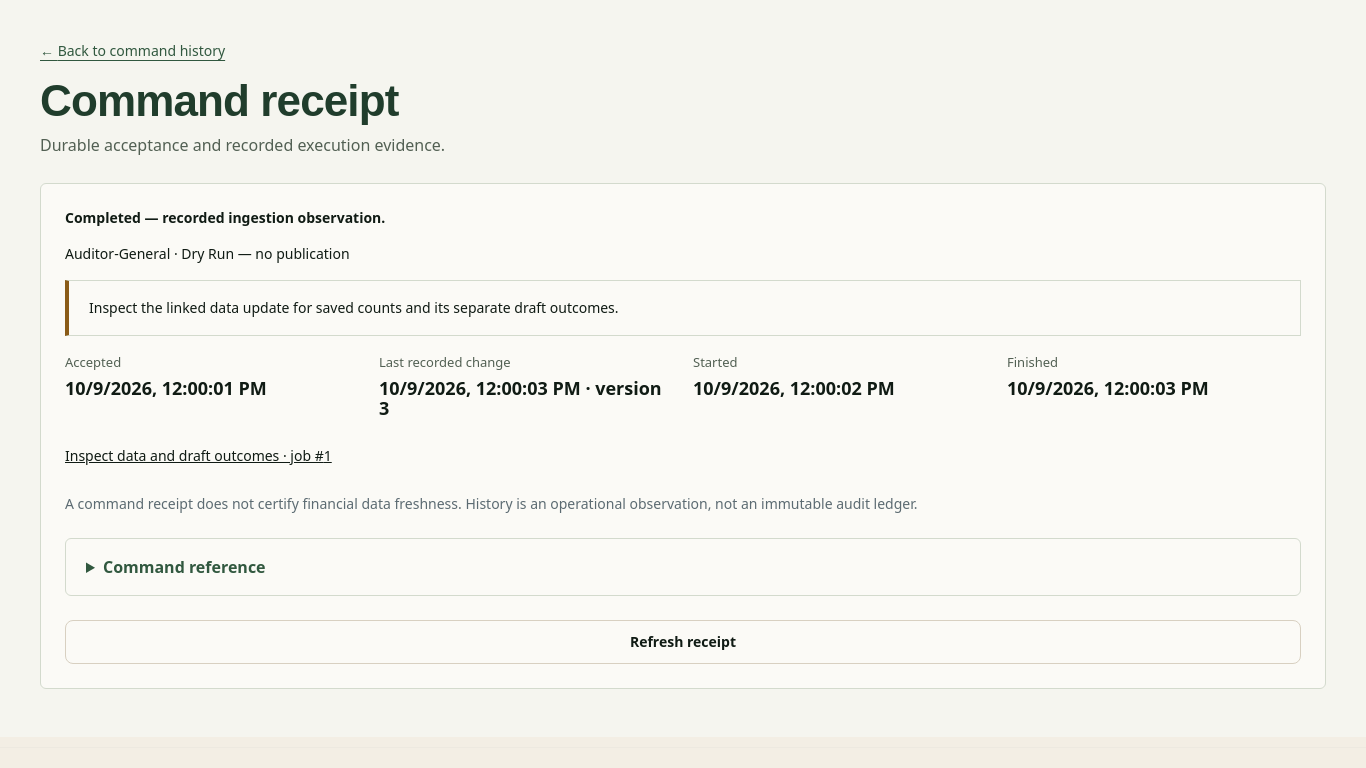
adversarial rendered terminal refresh hides success after a rewritten finished timestamp
This screenshot has width=1366, height=768.
Expected: the text "Completed — recorded ingestion observation." is shown, top-left (65, 208), bottom-right (385, 227)
Click the button "Refresh receipt" at (683, 642), box top-left (65, 620), bottom-right (1301, 664)
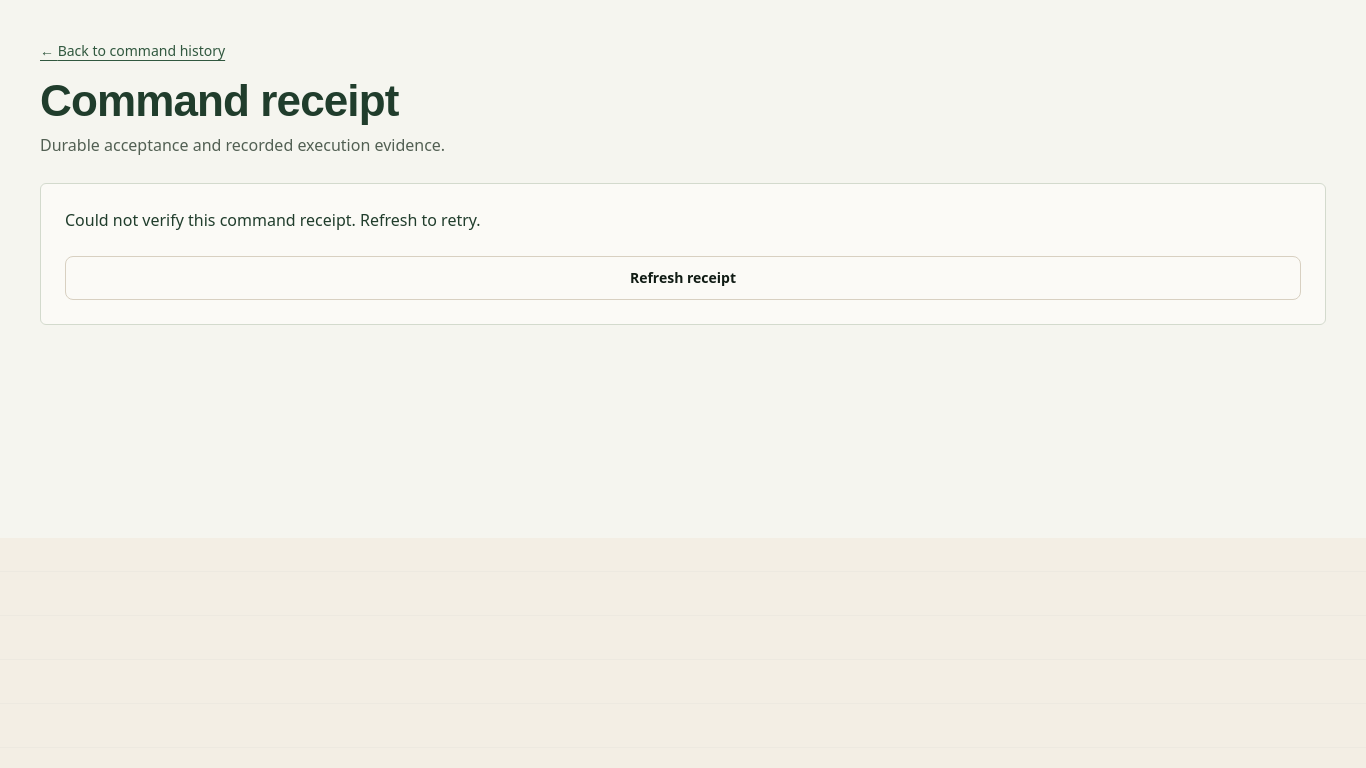
Now the text "Could not verify this command receipt. Refresh to retry." is shown, box top-left (65, 209), bottom-right (481, 231)
Now the text "Completed — recorded ingestion observation." is gone
